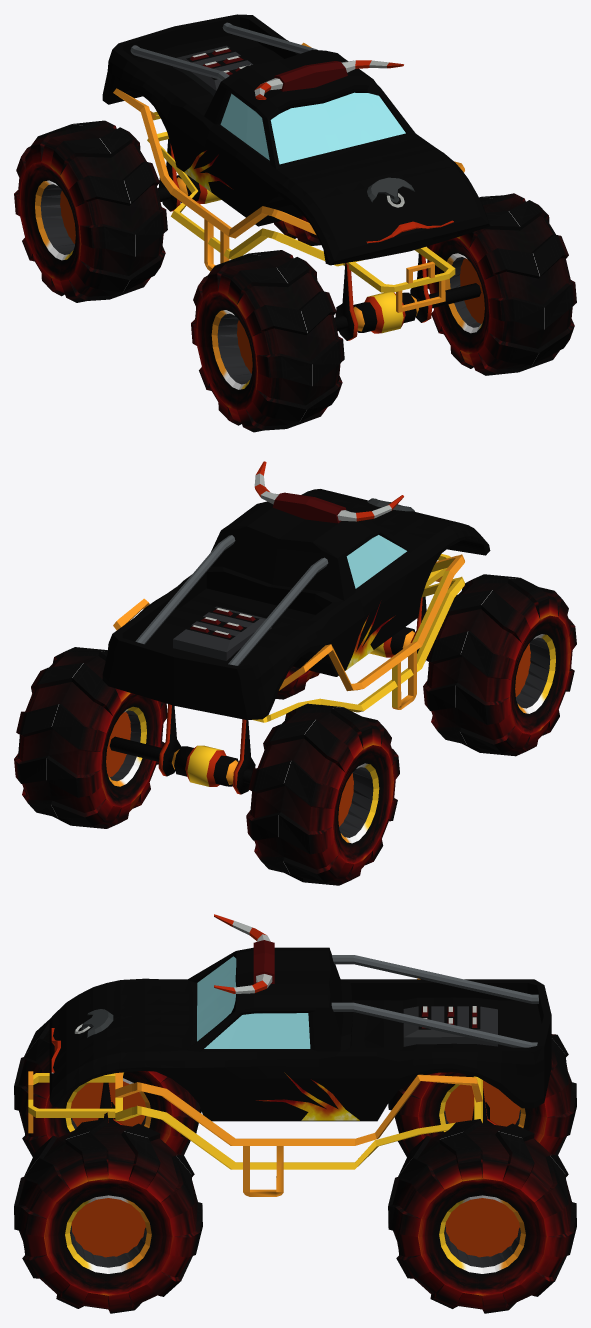
File: Bull.fbx
3 views of the same model, one above another, from view 1: azimuth 30°, elevation 25°; view 2: azimuth 150°, elevation 25°; view 3: azimuth 270°, elevation 25° (orthographic). The views are drawn at different scales.
Parts seen in each view (by area): view 1: Monster_Truck_Body, Wheel_RR, Wheel_FR, Wheel_FL, Axel Front, Monster_Truck_Livery, Axel Back, Wheel_RL; view 2: Monster_Truck_Body, Wheel_RR, Wheel_FR, Wheel_RL, Axel Back, Axel Front, Monster_Truck_Livery, Wheel_FL; view 3: Monster_Truck_Body, Wheel_FL, Wheel_RL, Wheel_RR, Wheel_FR, Monster_Truck_Livery.
Boxes of the visible parts, left/top/right/bottom form: Monster_Truck_Body: left=102, top=14, right=489, bottom=312; Wheel_RR: left=14, top=120, right=167, bottom=302; Wheel_FR: left=191, top=250, right=344, bottom=432; Wheel_FL: left=426, top=193, right=576, bottom=375; Axel Front: left=334, top=253, right=481, bottom=340; Monster_Truck_Livery: left=184, top=150, right=453, bottom=243; Axel Back: left=157, top=139, right=221, bottom=211; Wheel_RL: left=274, top=215, right=321, bottom=245; Monster_Truck_Body: left=102, top=461, right=490, bottom=722; Wheel_RR: left=246, top=703, right=399, bottom=885; Wheel_FR: left=423, top=574, right=576, bottom=756; Wheel_RL: left=14, top=647, right=167, bottom=828; Axel Back: left=109, top=704, right=255, bottom=794; Axel Front: left=369, top=596, right=426, bottom=661; Monster_Truck_Livery: left=346, top=498, right=414, bottom=670; Wheel_FL: left=275, top=666, right=319, bottom=699; Monster_Truck_Body: left=28, top=914, right=551, bottom=1196; Wheel_FL: left=14, top=1119, right=202, bottom=1313; Wheel_RL: left=388, top=1119, right=576, bottom=1313; Wheel_RR: left=388, top=1034, right=576, bottom=1156; Wheel_FR: left=14, top=1018, right=201, bottom=1156; Monster_Truck_Livery: left=51, top=1009, right=359, bottom=1120.
Size of the model in its own units: 485 by 409 by 715.
